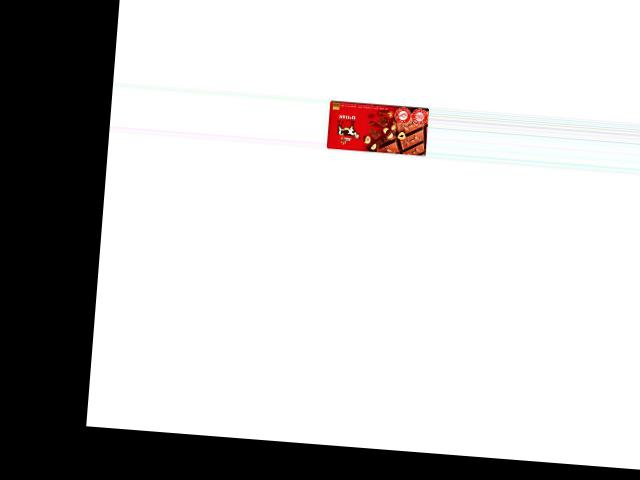chocolate: (326, 99, 429, 156)
